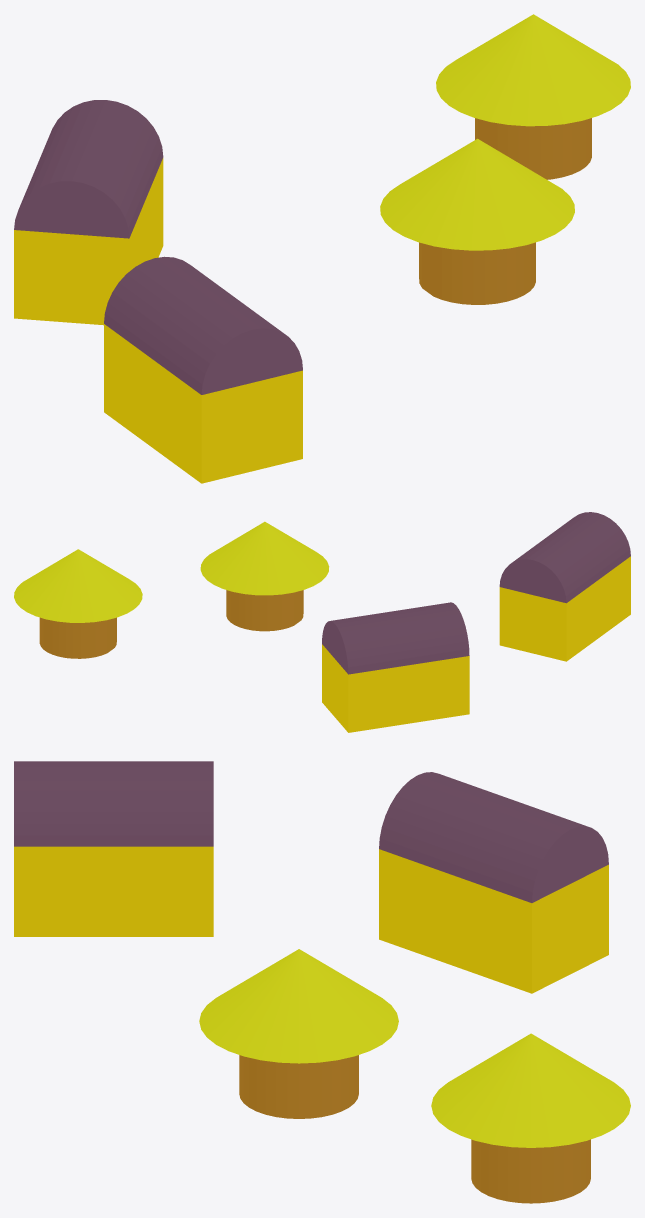
File: city_center.glb
3 renders of one model, top to bottom at view 1: azimuth 30°, elevation 25°; view 2: azimuth 150°, elevation 25°; view 3: azimuth 270°, elevation 25°, orthographic. The views are drawn at different scales.
Visible parts, largest first — view 1: House 1.002, House 1.001, Hut 1.003, Hut 1.001; view 2: House 1.001, House 1.002, Hut 1.003, Hut 1.001; view 3: House 1.001, House 1.002, Hut 1.001, Hut 1.003.
Boxes of the visible parts, x1,y1,x2,y2 form: House 1.002: [104, 256, 302, 483]; House 1.001: [14, 100, 163, 325]; Hut 1.003: [380, 138, 574, 304]; Hut 1.001: [436, 14, 630, 179]; House 1.001: [322, 602, 469, 732]; House 1.002: [499, 512, 630, 661]; Hut 1.003: [200, 521, 329, 631]; Hut 1.001: [14, 549, 142, 658]; House 1.001: [379, 772, 608, 993]; House 1.002: [14, 761, 213, 936]; Hut 1.001: [431, 1033, 630, 1203]; Hut 1.003: [199, 949, 398, 1118].
Size of the model in its own units: 0.1978 by 0.04 by 0.1544.
